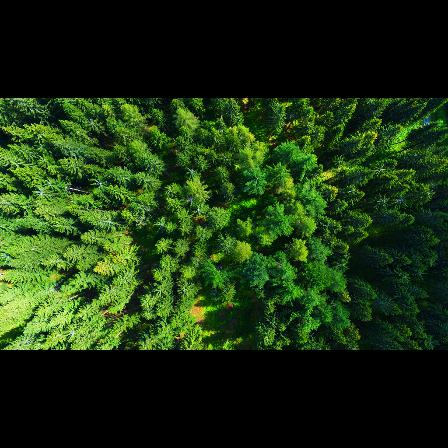Sick: (373, 161, 387, 178), (395, 193, 410, 208)
